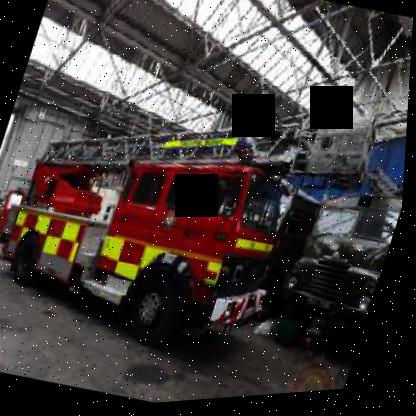emergency: (0, 83, 347, 411)
